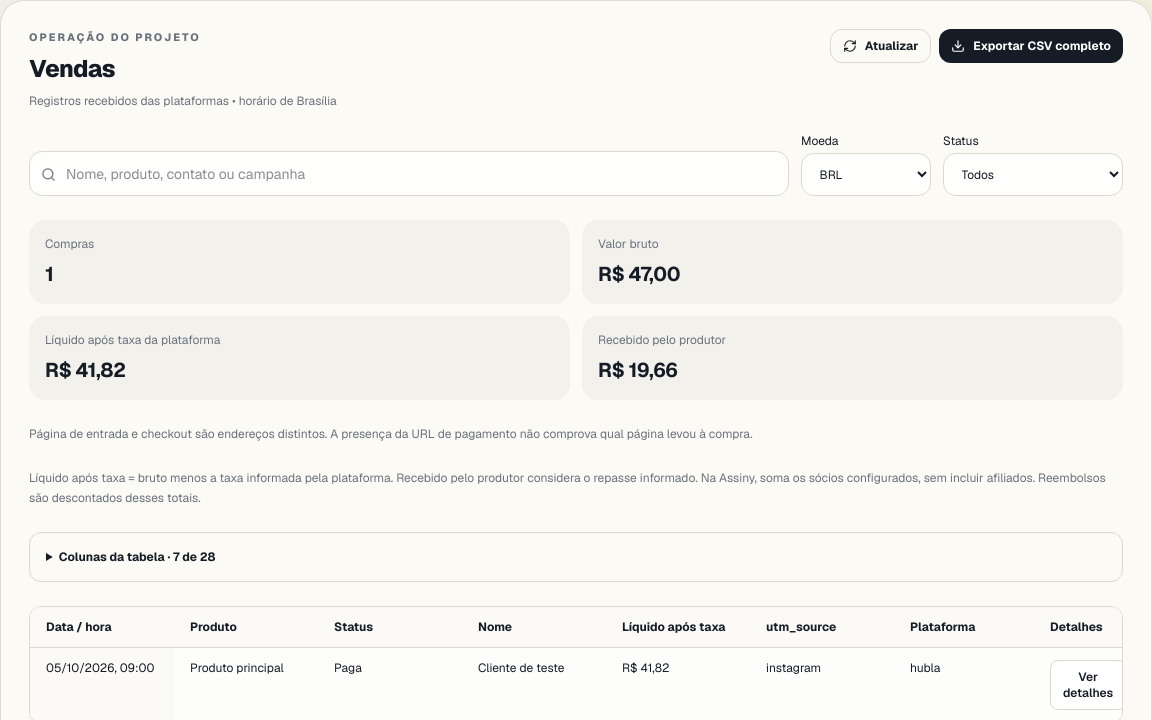
Test: opens the full sale without losing search, and separates net revenue from payout
Expected: the button "Ver detalhes" is shown, 1050,660 -> 1123,710
Type "invoice-1" into the field named "Buscar registros".
click(409, 174); type("invoice-1")  # box 29,151 -> 789,196
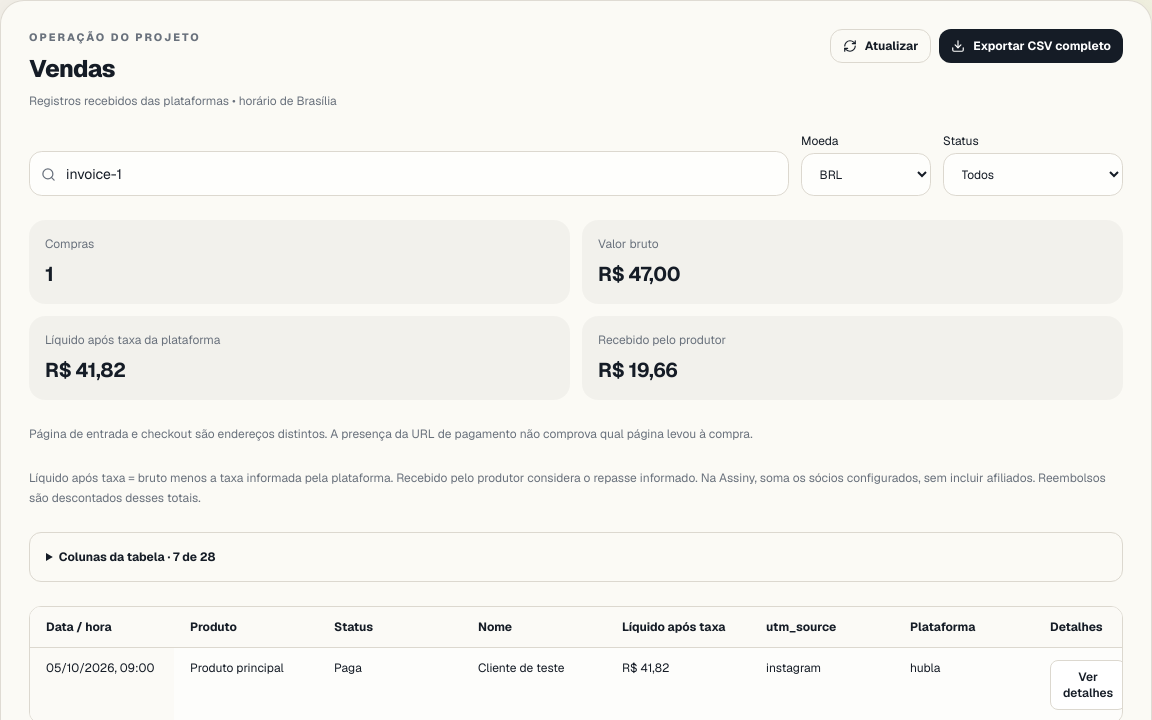
Click the button "Ver detalhes".
click(1088, 685)  # box 1050,660 -> 1126,710
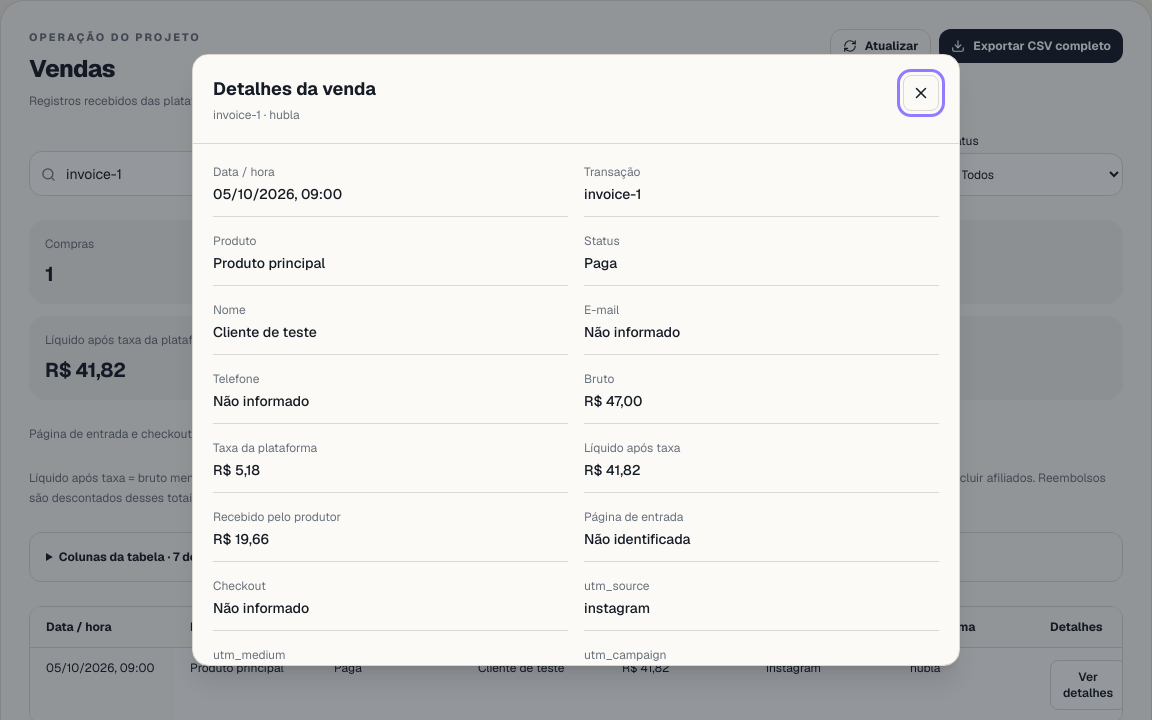
Now the text "R$ 41,82" is shown, box 584,461 -> 641,479
Now the text "R$ 19,66" is shown, box 213,530 -> 269,548
Now the text "instagram" is shown, box 584,599 -> 650,617
Click the button named "Fechar detalhes da venda".
click(921, 93)  # box 903,75 -> 939,111
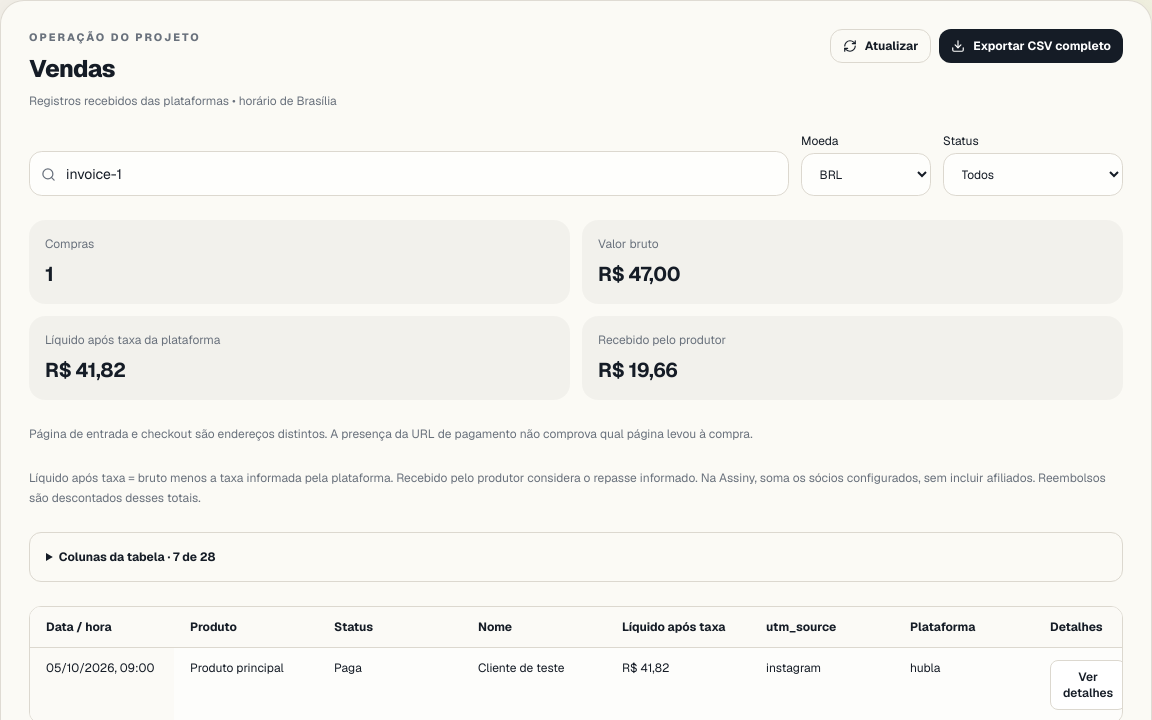
Expected: the button "Ver detalhes" is shown, 1050,660 -> 1123,710
Now the dialog is gone
